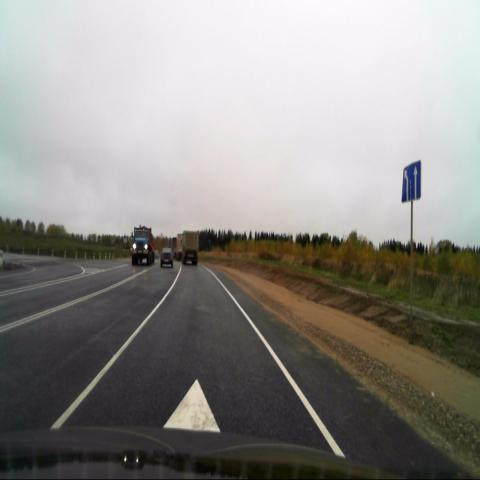5_15_2_2: (402, 160, 422, 204)
